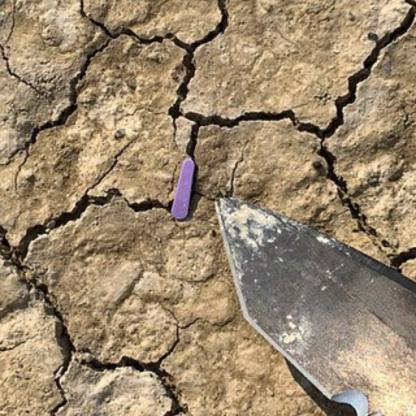knife: (215, 189, 415, 415)
